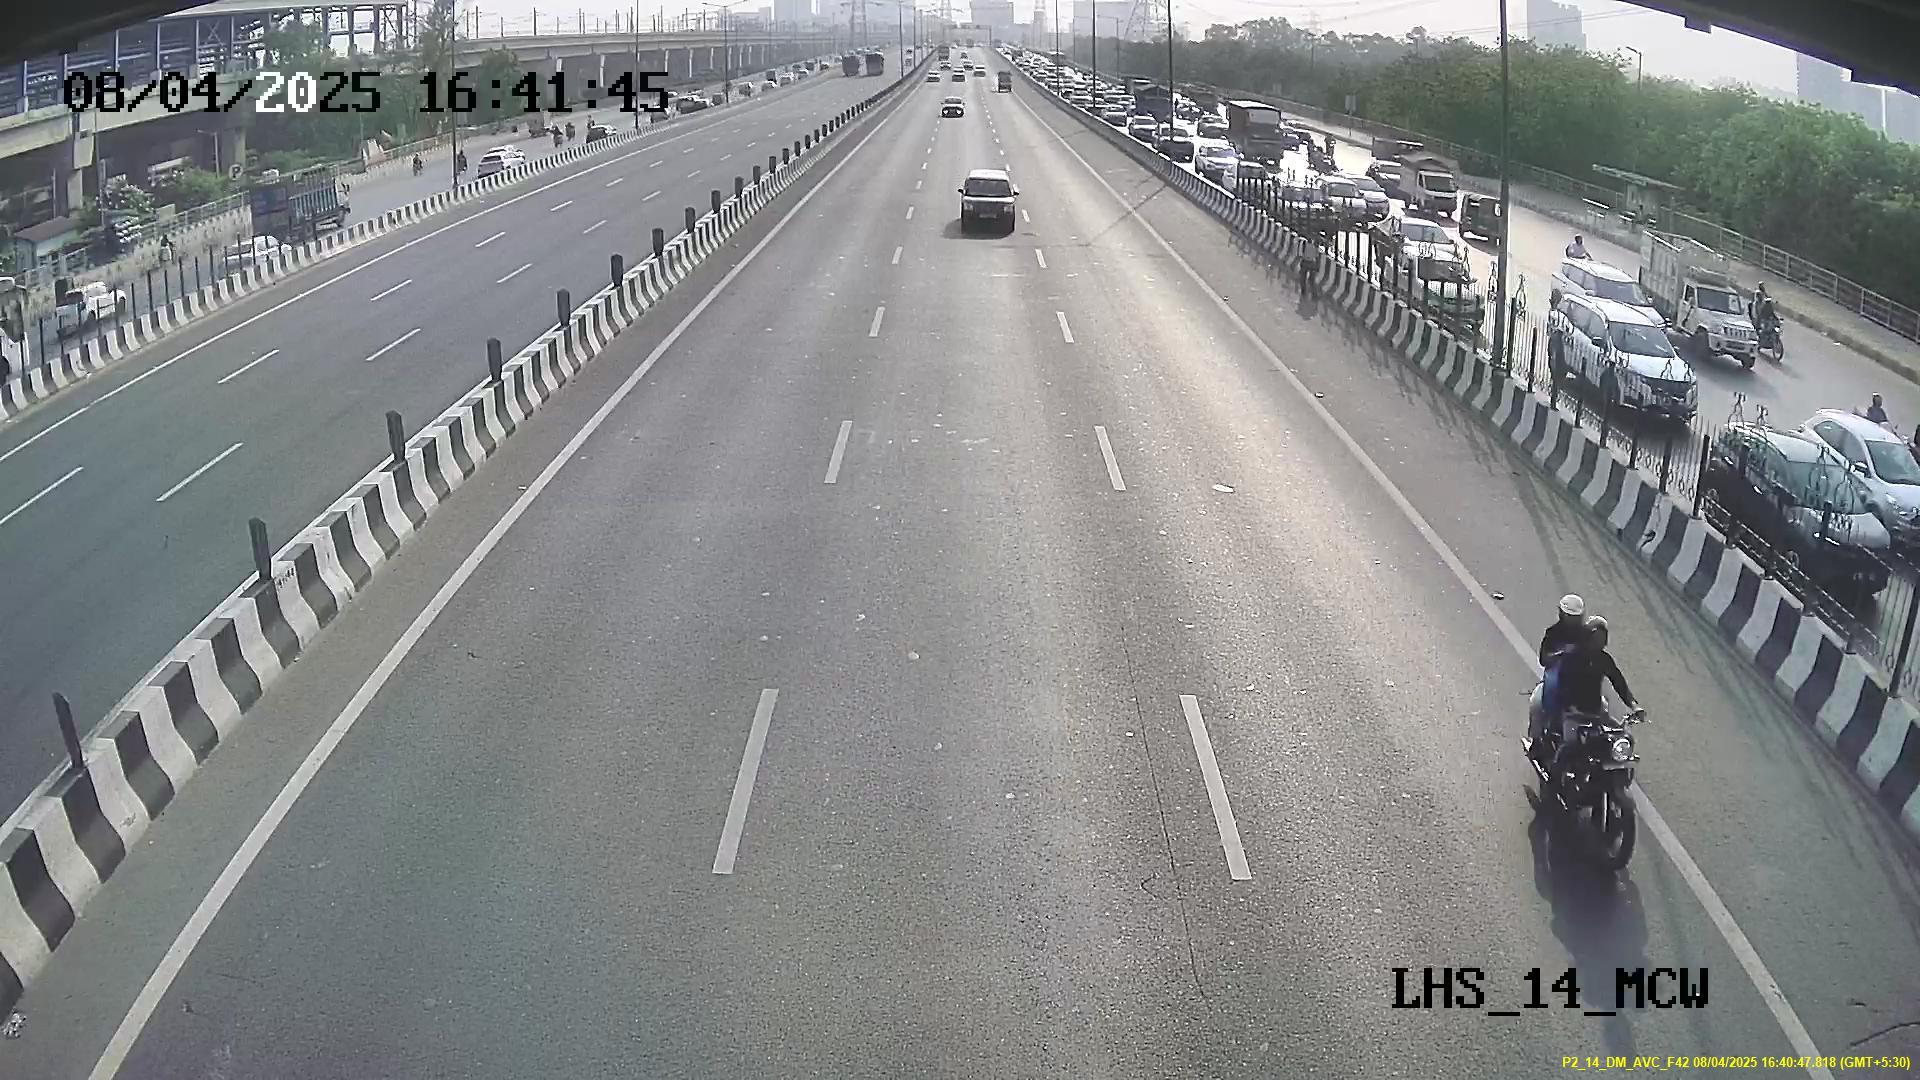bike: (1519, 595, 1662, 870)
